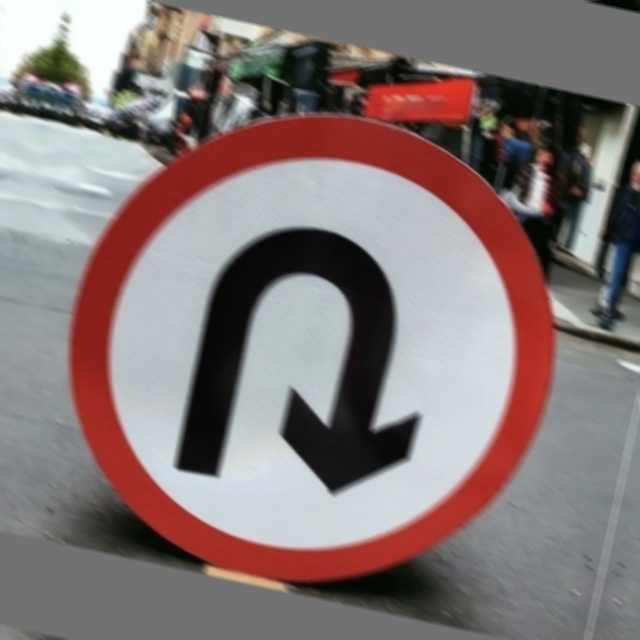U_Turn_Ahead: (91, 133, 554, 583)
